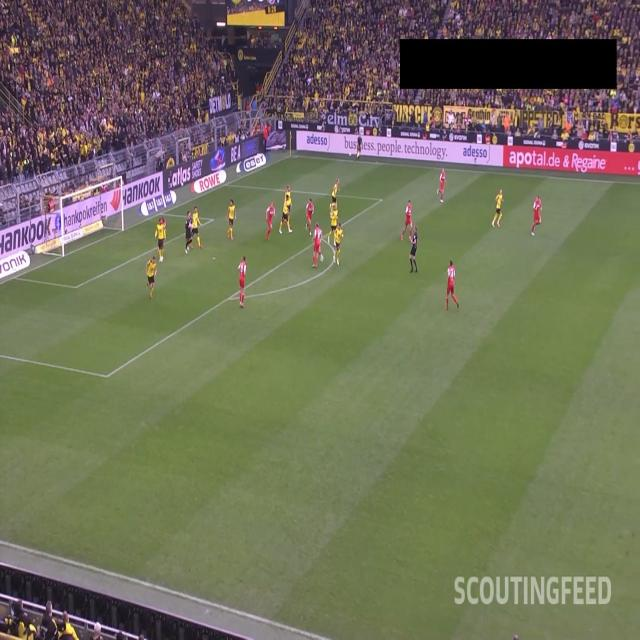ball: (189, 222, 194, 234)
f_player: (444, 255, 461, 314), (489, 185, 506, 231), (529, 190, 544, 242), (400, 197, 414, 245), (189, 205, 203, 251), (278, 194, 293, 236), (310, 222, 322, 272), (145, 254, 158, 300), (154, 217, 166, 264), (237, 254, 247, 310), (225, 198, 237, 242), (264, 198, 276, 242), (333, 221, 344, 267), (436, 165, 448, 207), (328, 201, 339, 246), (282, 183, 292, 226), (314, 222, 324, 264), (329, 176, 341, 210), (304, 196, 314, 236), (184, 210, 193, 254)
umpire: (407, 224, 420, 276)
